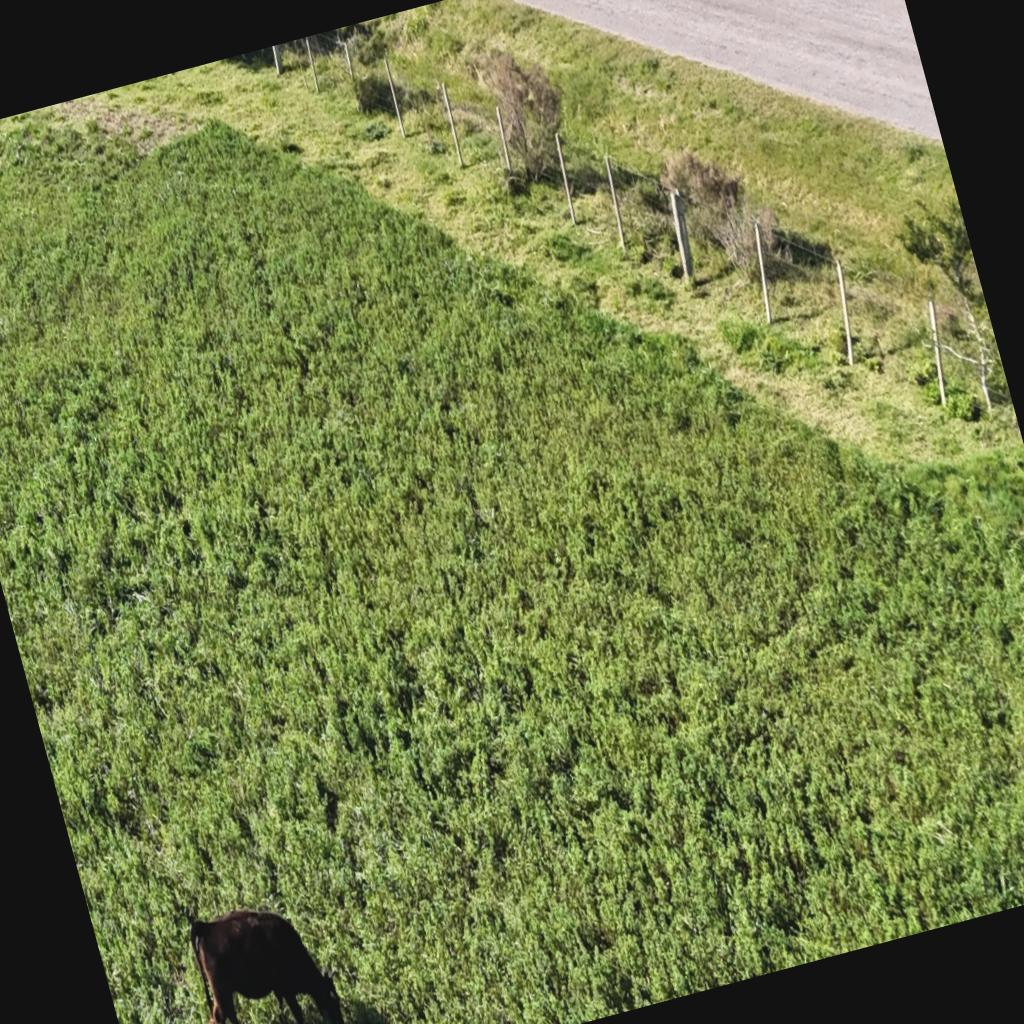cow: (183, 884, 355, 1024)
